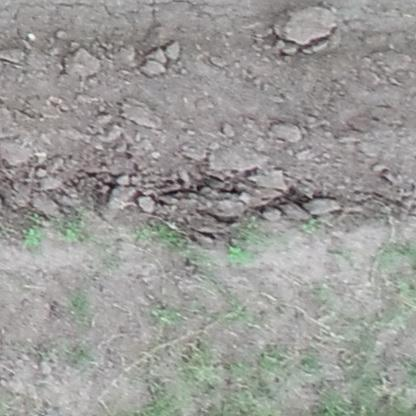vc: (303, 219, 318, 232), (228, 244, 238, 260)
